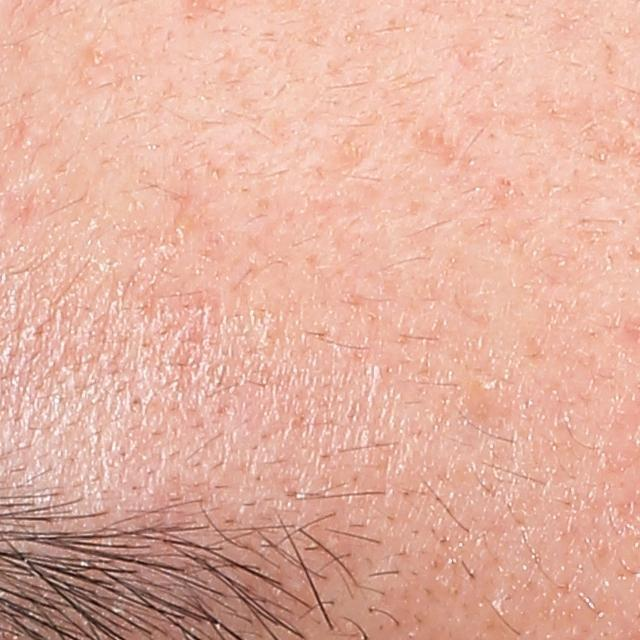comedo: (82, 41, 110, 71)
